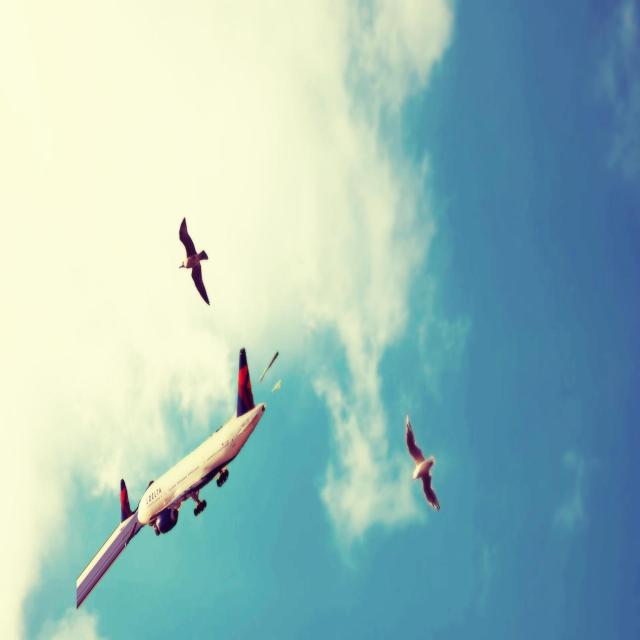airplane: (76, 345, 279, 610)
